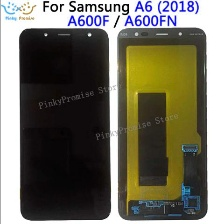phone: (14, 25, 114, 222), (113, 25, 210, 222)
